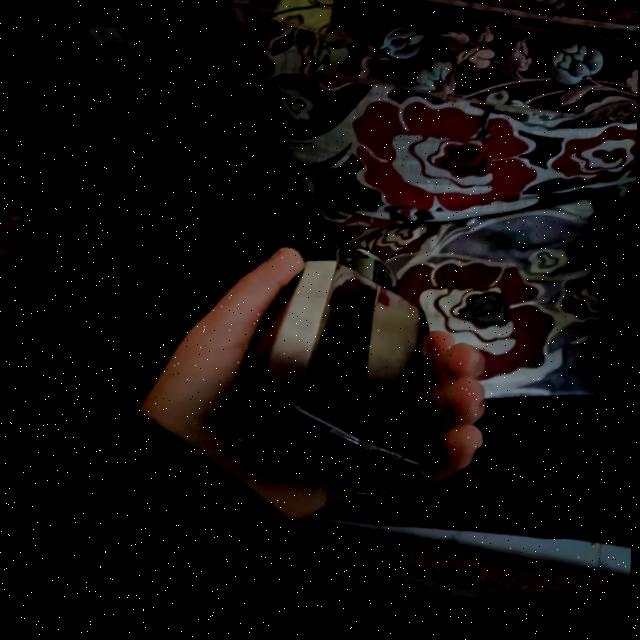Afnan: (214, 241, 436, 519)
